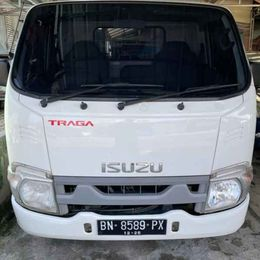plate: (98, 219, 167, 238)
